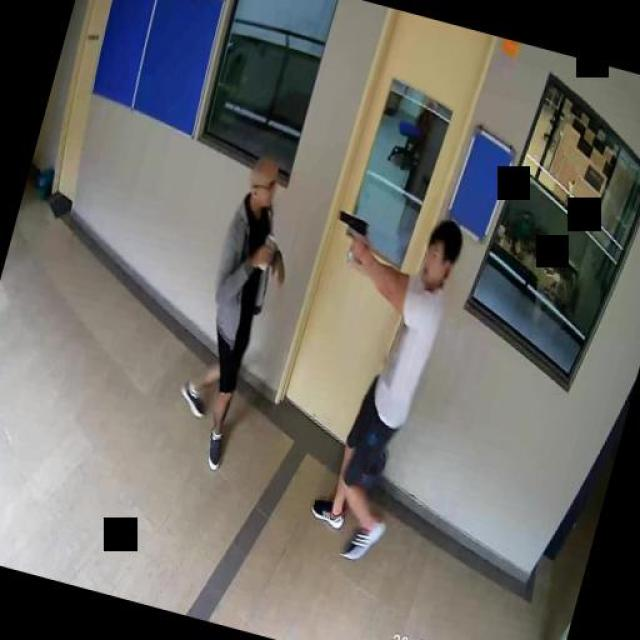gun: (329, 206, 371, 256)
